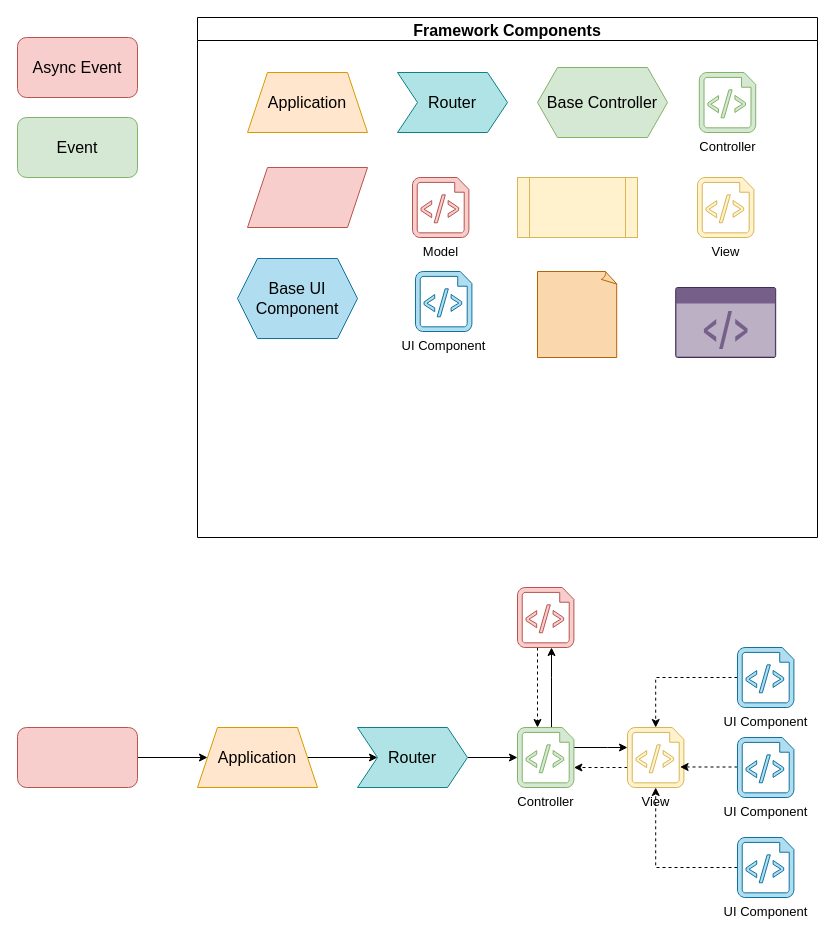
The diagram is 835 pixels wide and 938 high, and some of its shapes have lost their labels. The shapes that lost their labels are listed below. From the top down, each one's box as (x1, y1, x2, y2) in pixels, then its label:
(246, 166, 368, 228): Base Model
(516, 176, 638, 238): Base View
(536, 270, 618, 358): Config
(675, 286, 776, 358): Helper
(16, 726, 138, 788): Page loads
